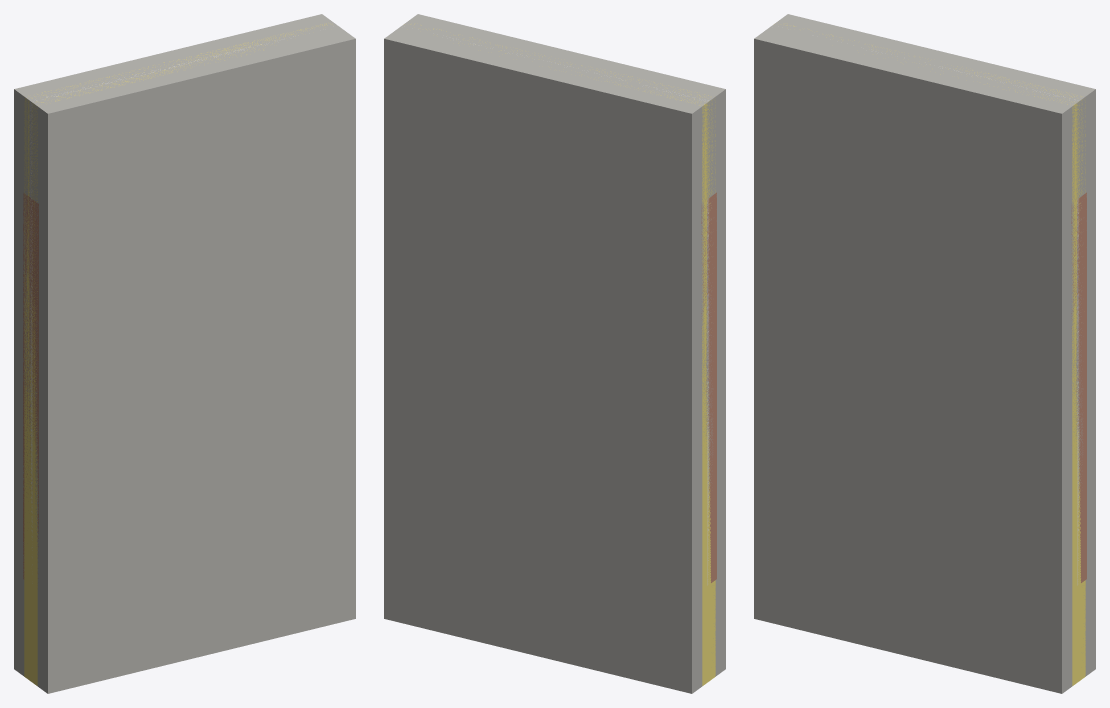
Rendered from wall-stacked-brick-cmu.glb.
The picture shows the model from 3 angles, left to right: view 1: azimuth 30°, elevation 25°; view 2: azimuth 150°, elevation 25°; view 3: azimuth 330°, elevation 25°; orthographic projection.
Parts seen in each view (by area): view 1: Top_CMU, Base_CMU, Top_Insul, Base_Brick, Base_Insul; view 2: Top_CMU, Base_CMU, Top_Insul, Base_Brick, Base_Insul; view 3: Top_CMU, Base_CMU, Top_Insul, Base_Brick, Base_Insul.
Boxes of the visible parts, x1,y1,x2,y2 form: Top_CMU: (14, 14, 355, 693); Base_CMU: (14, 135, 355, 579); Top_Insul: (24, 23, 327, 685); Base_Brick: (23, 193, 38, 579); Base_Insul: (27, 201, 35, 586); Top_CMU: (384, 14, 725, 693); Base_CMU: (384, 135, 725, 589); Top_Insul: (410, 24, 715, 685); Base_Brick: (701, 192, 716, 582); Base_Insul: (704, 198, 710, 587); Top_CMU: (754, 14, 1095, 693); Base_CMU: (754, 135, 1095, 589); Top_Insul: (786, 25, 1085, 685); Base_Brick: (1071, 192, 1086, 582); Base_Insul: (1074, 198, 1080, 587).
Size of the model in its own units: 1 by 1.8 by 0.19.
